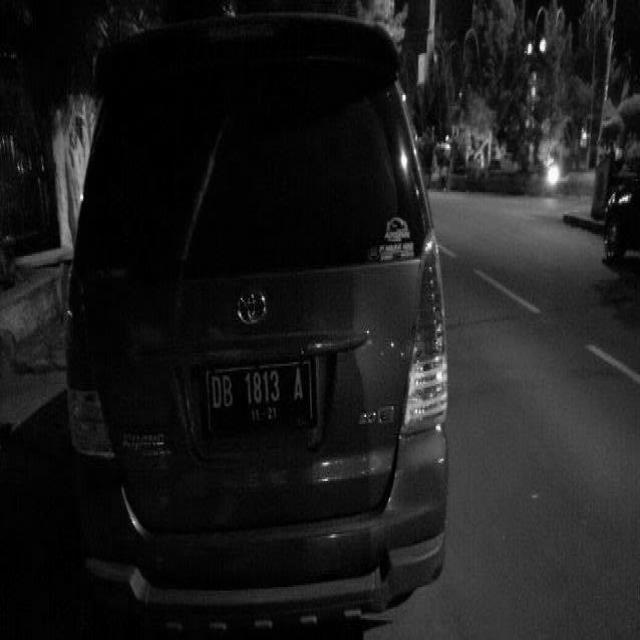1: (260, 366, 270, 403), (243, 370, 253, 404)
3: (270, 370, 280, 403)
8: (252, 372, 262, 403)
A: (292, 362, 304, 403)
B: (222, 374, 236, 408)
D: (212, 375, 224, 409)
